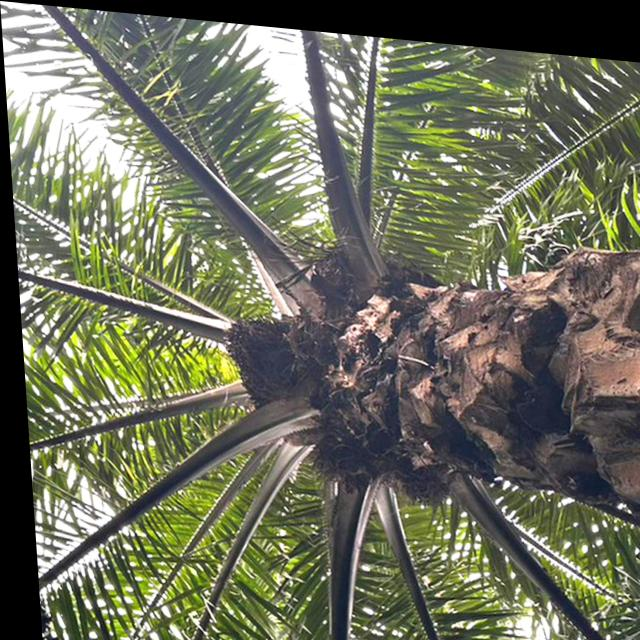almost: (217, 303, 304, 407)
